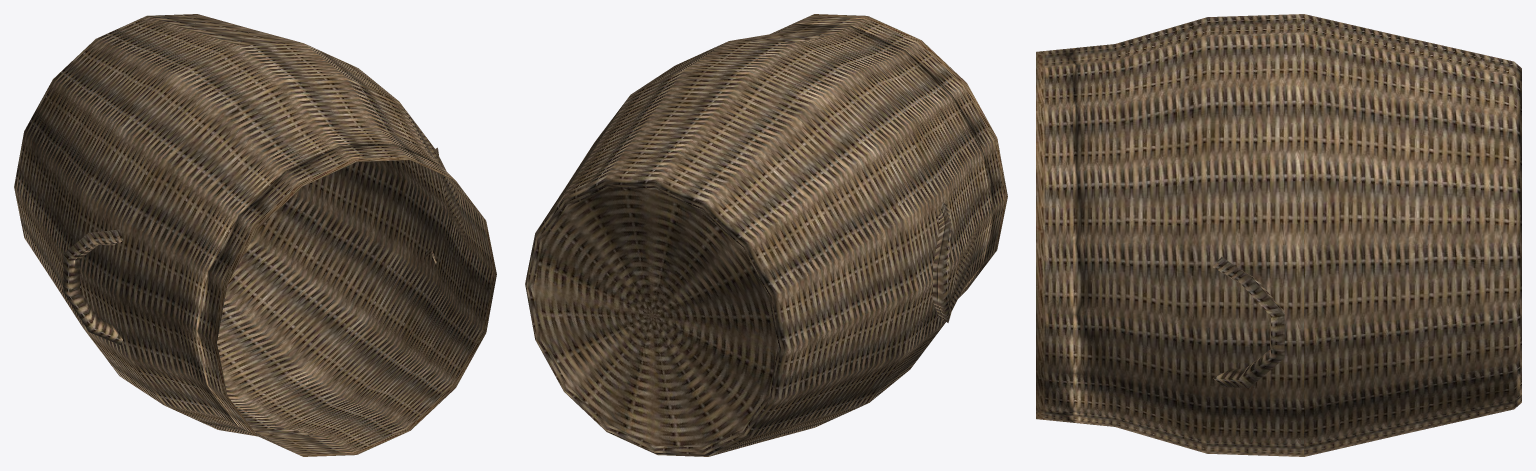
Rendered from prop_rattanbasket3.glb.
The picture shows the model from 3 angles, left to right: view 1: azimuth 30°, elevation 25°; view 2: azimuth 150°, elevation 25°; view 3: azimuth 270°, elevation 25°; orthographic projection. The views are drawn at different scales.
Bounding box in the file's own units: 31.43 × 28.9 × 31.67.
1 material, 1 textured.
